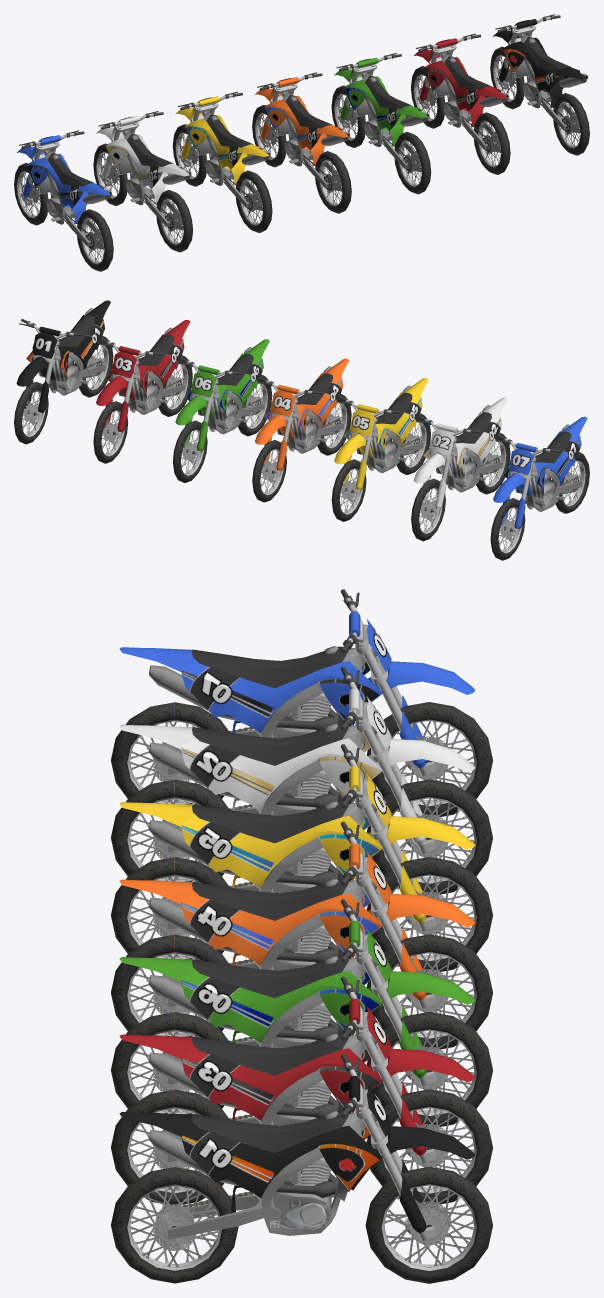
Rendered from bikeDirt.glb.
The picture shows the model from 3 angles, top to bottom: view 1: azimuth 30°, elevation 25°; view 2: azimuth 150°, elevation 25°; view 3: azimuth 270°, elevation 25°; orthographic projection. The views are drawn at different scales.
Visible parts, largest first — view 1: dirt_bikeblue_Maerial.044_0, dirt_bike black_Material.036_0, dirt_bike green_Material.020_0, dirt_bike white_Material.052_0, dirt_bike red_Material.028_0, dirt_bike orange_Material.012_0, dirt_bike yellow_Material.060_0; view 2: dirt_bikeblue_Maerial.044_0, dirt_bike white_Material.052_0, dirt_bike black_Material.036_0, dirt_bike orange_Material.012_0, dirt_bike red_Material.028_0, dirt_bike green_Material.020_0, dirt_bike yellow_Material.060_0; view 3: dirt_bike black_Material.036_0, dirt_bike red_Material.028_0, dirt_bike yellow_Material.060_0, dirt_bikeblue_Maerial.044_0, dirt_bike orange_Material.012_0, dirt_bike green_Material.020_0, dirt_bike white_Material.052_0.
Boxes of the visible parts, x1,y1,x2,y2 form: dirt_bikeblue_Maerial.044_0: (14, 130, 113, 271); dirt_bike black_Material.036_0: (490, 14, 589, 155); dirt_bike green_Material.020_0: (331, 53, 431, 194); dirt_bike white_Material.052_0: (93, 111, 192, 252); dirt_bike red_Material.028_0: (411, 33, 510, 174); dirt_bike orange_Material.012_0: (252, 72, 351, 213); dirt_bike yellow_Material.060_0: (172, 91, 272, 232); dirt_bikeblue_Maerial.044_0: (490, 416, 589, 560); dirt_bike white_Material.052_0: (411, 397, 510, 541); dirt_bike black_Material.036_0: (14, 300, 113, 444); dirt_bike orange_Material.012_0: (252, 358, 351, 502); dirt_bike red_Material.028_0: (93, 320, 192, 463); dirt_bike green_Material.020_0: (173, 339, 272, 482); dirt_bike yellow_Material.060_0: (331, 378, 430, 521); dirt_bike black_Material.036_0: (111, 1054, 492, 1283); dirt_bike red_Material.028_0: (111, 976, 492, 1204); dirt_bike yellow_Material.060_0: (111, 744, 492, 972); dirt_bikeblue_Maerial.044_0: (111, 589, 492, 817); dirt_bike orange_Material.012_0: (111, 821, 492, 1050); dirt_bike green_Material.020_0: (111, 899, 492, 1127); dirt_bike white_Material.052_0: (111, 666, 492, 895).
Bounding box in the file's own units: 6.78 × 1.21 × 2.09.
7 materials, 7 textured.
